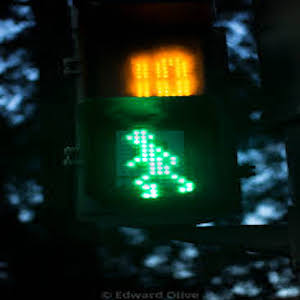green: (117, 120, 202, 208)
